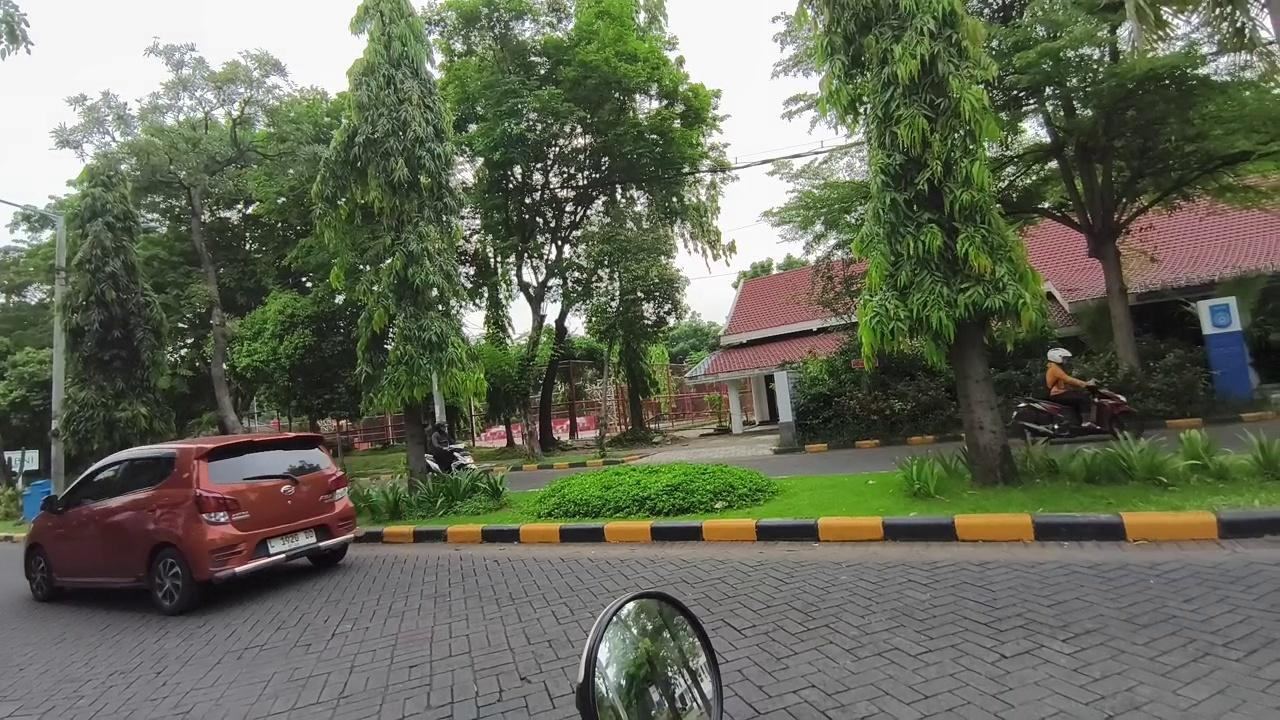Helmet: (1046, 347, 1095, 427), (428, 421, 453, 472)
Motor: (1010, 384, 1143, 440), (425, 443, 475, 474)
